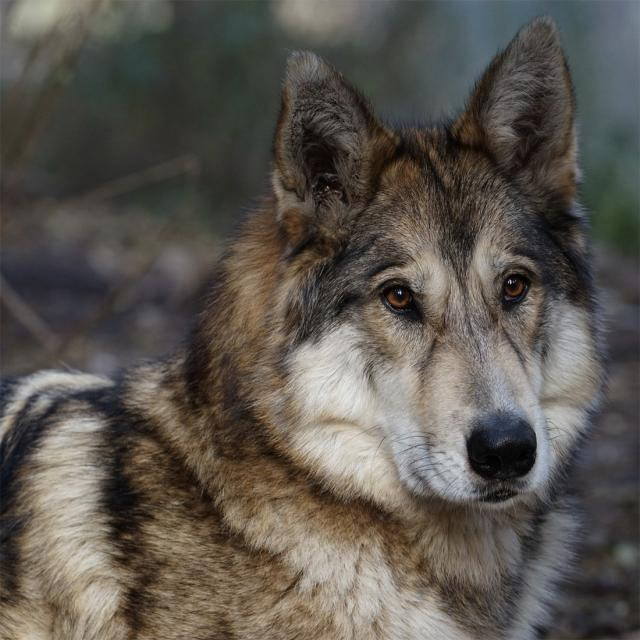dog: (278, 127, 545, 529)
